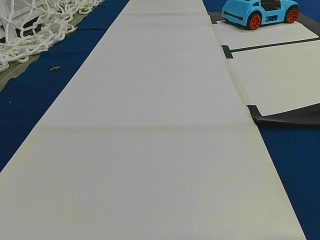car: (222, 1, 297, 28)
